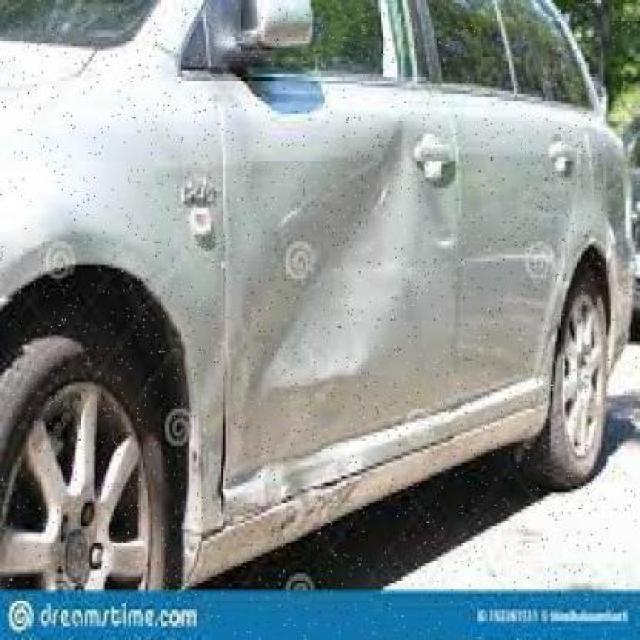RunningBoard-Dent: (182, 463, 478, 567)
doorouter-dent: (218, 86, 450, 448), (451, 103, 597, 405)
